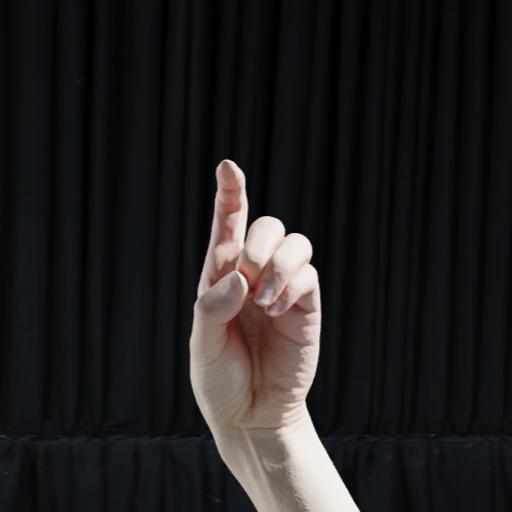X: (157, 121, 467, 512)
